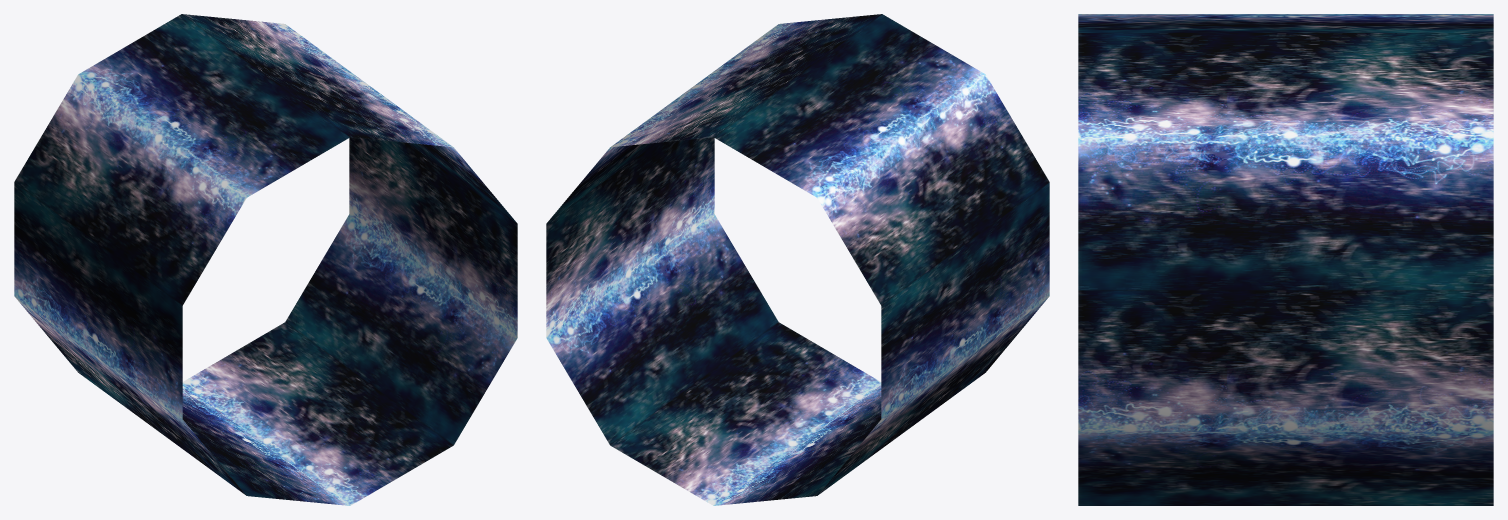
3 views of the same model, side by side, from view 1: azimuth 30°, elevation 25°; view 2: azimuth 150°, elevation 25°; view 3: azimuth 270°, elevation 25° (orthographic). The views are drawn at different scales.
Parts seen in each view (by area): view 1: tube; view 2: tube; view 3: tube.
Boxes of the visible parts, x1,y1,x2,y2 form: tube: (14, 14, 517, 505); tube: (546, 14, 1049, 505); tube: (1078, 14, 1493, 505).
Bounding box in the file's own units: 2072 × 2179 × 1806.
